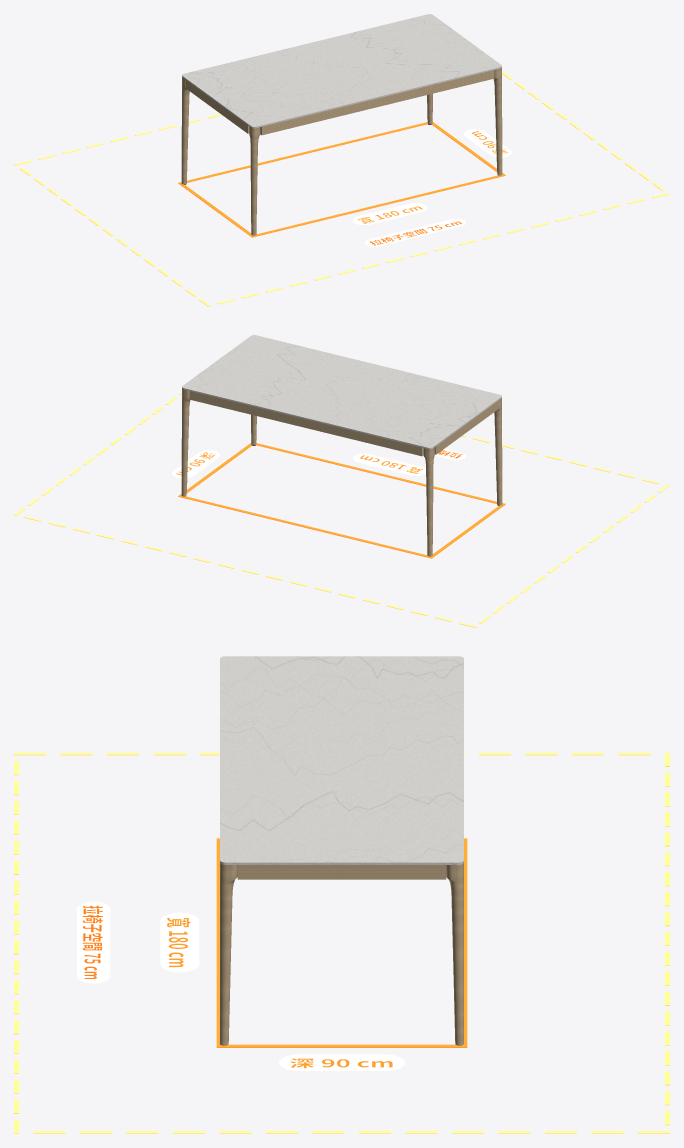
Rendered from ownDanish-f.glb.
3 renders of one model, top to bottom at view 1: azimuth 30°, elevation 25°; view 2: azimuth 150°, elevation 25°; view 3: azimuth 270°, elevation 25°, orthographic. The views are drawn at different scales.
Visible parts, largest first — view 1: object 1, ar-frame, object 4, object 13, object 10, object 6, object 3; view 2: object 1, ar-frame, object 2, object 6, object 14, object 13, object 3; view 3: object 1, ar-frame, object 5, object 10, object 14.
Boxes of the visible parts, x1,y1,x2,y2 form: object 1: (182, 14, 501, 128); ar-frame: (14, 72, 669, 306); object 4: (260, 70, 494, 135); object 13: (249, 126, 260, 235); object 10: (493, 68, 502, 175); object 6: (181, 77, 189, 184); object 3: (186, 80, 249, 133); object 1: (182, 335, 501, 449); ar-frame: (14, 392, 669, 627); object 2: (189, 391, 423, 456); object 6: (423, 447, 434, 556); object 14: (181, 389, 190, 496); object 13: (494, 398, 502, 505); object 3: (434, 401, 497, 454); object 1: (220, 656, 463, 864); ar-frame: (14, 752, 669, 1133); object 5: (237, 865, 446, 879); object 10: (220, 863, 237, 1045); object 14: (446, 863, 463, 1045).
Size of the model in its own units: 3.32 by 0.75 by 2.42.
Materials: 8 (5 with a texture image).
